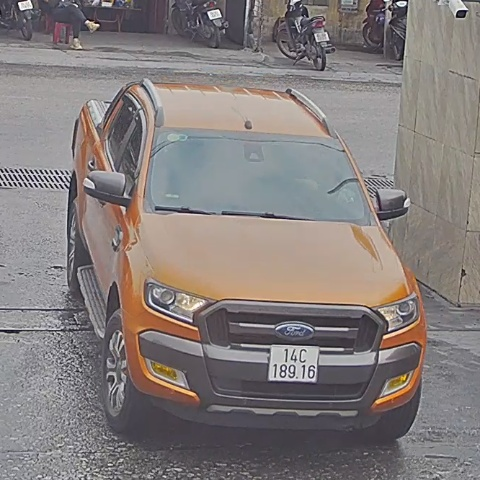vehicle plate: (267, 339, 321, 384)
